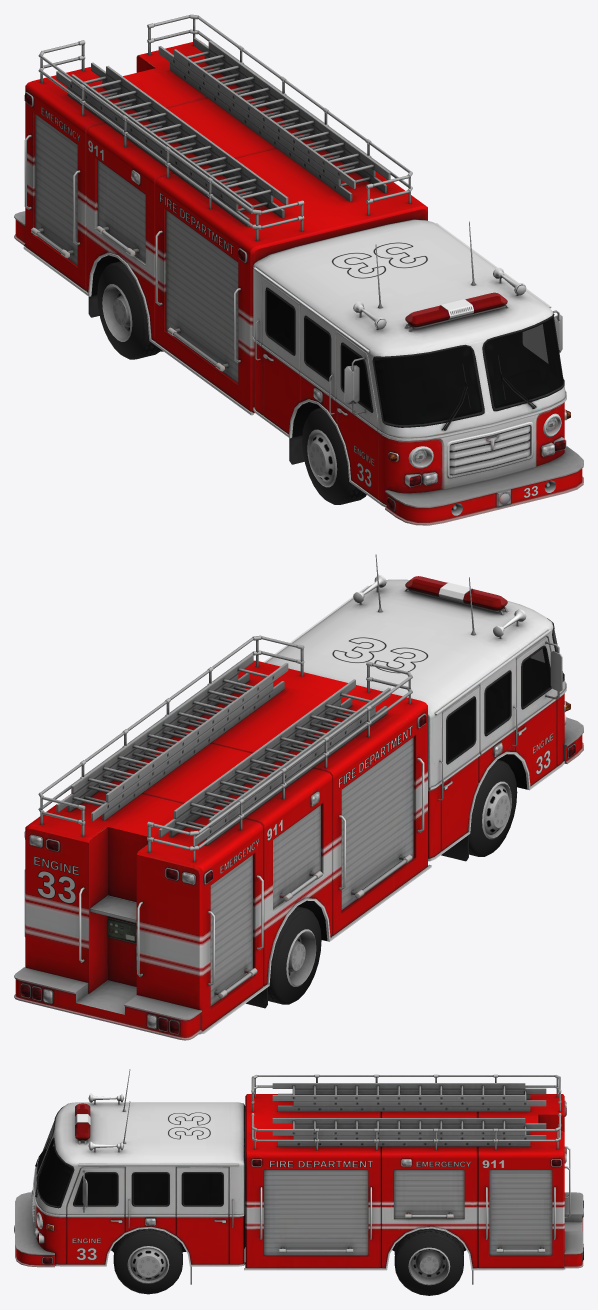
Rendered from veh-fire_truck.glb.
3 renders of one model, top to bottom at view 1: azimuth 30°, elevation 25°; view 2: azimuth 150°, elevation 25°; view 3: azimuth 270°, elevation 25°, orthographic. The views are drawn at different scales.
Parts seen in each view (by area): view 1: fire_truck_firetruck_0, fire_truck_firetruck_glass_0 (×2), fire_truck_firetruck_decals_0, fire_truck_optics_tex_0; view 2: fire_truck_firetruck_0, fire_truck_firetruck_glass_0 (×2), fire_truck_firetruck_decals_0, fire_truck_optics_tex_0; view 3: fire_truck_firetruck_0, fire_truck_firetruck_glass_0 (×2), fire_truck_firetruck_decals_0, fire_truck_optics_tex_0.
Boxes of the visible parts, box(x1,y1,x2,y2) form: fire_truck_firetruck_0: box(14, 14, 583, 525); fire_truck_firetruck_glass_0 (×2): box(267, 290, 563, 424); fire_truck_firetruck_decals_0: box(41, 107, 538, 497); fire_truck_optics_tex_0: box(24, 93, 570, 510); fire_truck_firetruck_0: box(14, 554, 583, 1040); fire_truck_firetruck_glass_0 (×2): box(405, 576, 563, 761); fire_truck_firetruck_decals_0: box(34, 637, 553, 903); fire_truck_optics_tex_0: box(21, 702, 575, 1033); fire_truck_firetruck_0: box(14, 1069, 583, 1295); fire_truck_firetruck_glass_0 (×2): box(37, 1103, 221, 1206); fire_truck_firetruck_decals_0: box(72, 1112, 503, 1260); fire_truck_optics_tex_0: box(34, 1102, 583, 1263).
Bounding box in the file's own units: 2.59 × 2.93 × 8.35.
Materials: 5 (5 with a texture image).
